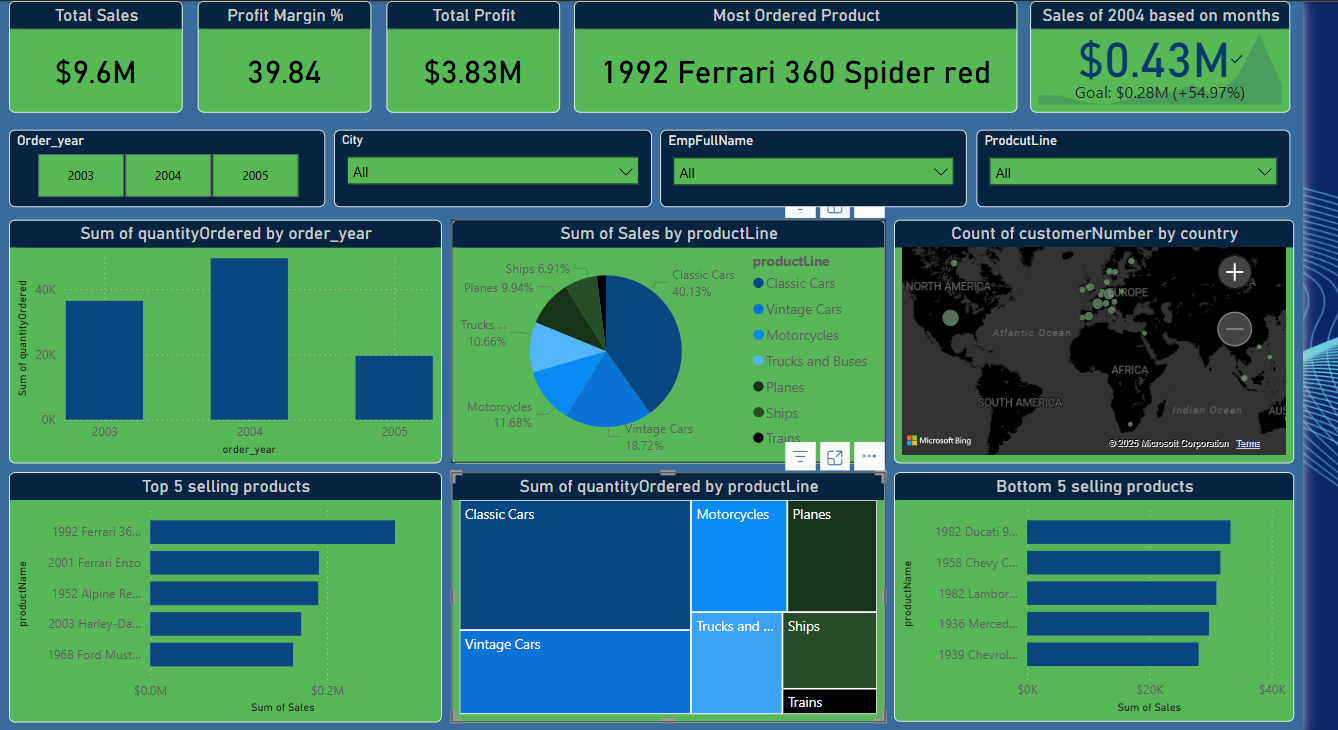

The page's visual inventory and layout, read from the dashboard file:
{"tool":"powerbi","page":{"name":"Page 1","canvas":[1280,720],"ordinal":0},"visuals":[{"type":"card","title":"Total Profit","fields":{"Values":["order details.total_profit"]},"box":[380.4,0,170.6,109.2],"z":0},{"type":"card","title":"Most Ordered Product","fields":{"Values":["order details.Most Bought Product"]},"box":[564.4,0,435.6,109.2],"z":1000},{"type":"pieChart","fields":{"Category":["products.productLine"],"Y":["order details.Sales"]},"box":[444.2,214.7,425.8,239.3],"z":2000},{"type":"slicer","title":"Order_year","fields":{"Values":["orders.order_year"]},"box":[9.8,126.4,310.4,76.1],"z":3000},{"type":"kpi","title":"Sales of 2004 based on months","fields":{"Indicator":["orders.sales_2004"],"Goal":["orders.sales_2003"],"TrendLine":["orders.Month Name"]},"box":[1012.3,0,255.2,109.2],"z":4000},{"type":"map","fields":{"Category":["customers.country"],"Size":["customers.customerNumber"]},"box":[878.5,214.7,392.6,239.3],"z":5000},{"type":"treemap","fields":{"Values":["order details.quantityOrdered"],"Group":["productlines.productLine"]},"box":[444.2,462.6,425.8,245.4],"z":6000},{"type":"clusteredColumnChart","fields":{"Y":["order details.quantityOrdered"],"Category":["orders.order_year"]},"box":[9.8,214.7,424.5,239.3],"z":7000},{"type":"card","title":"Profit Margin %","fields":{"Values":["classic_models_dataset.profit_margin_%"]},"box":[195.1,0,170.6,109.2],"z":8000},{"type":"card","title":"Total Sales","fields":{"Values":["order details.Sales"]},"box":[9.8,0,170.6,109.2],"z":9000},{"type":"slicer","title":"City","fields":{"Values":["customers.city"]},"box":[328.8,126.4,311.7,76.1],"z":10000},{"type":"slicer","title":"EmpFullName","fields":{"Values":["employees.FullName"]},"box":[649.1,126.4,300.6,76.1],"z":11000},{"type":"slicer","title":"ProdcutLine","fields":{"Values":["productlines.productLine"]},"box":[959.5,126.4,308,76.1],"z":12000},{"type":"clusteredBarChart","title":"Bottom 5 selling products","fields":{"Category":["products.productName"],"Y":["order details.Sales"]},"box":[879,463,393,245],"z":13000},{"type":"clusteredBarChart","title":"Top 5 selling products ","fields":{"Category":["products.productName"],"Y":["order details.Sales"]},"box":[9.8,462.6,424.5,245.4],"z":14000}]}

Visuals, with their boxes on the page's 1280x720 design canvas (x1, y1, x2, y2). These are canvas units, not pixel positions in the 1338x730 screenshot, which may show the page scaled, cropped or inside an application window:
"Total Profit" card: rect(380, 0, 551, 109)
"Most Ordered Product" card: rect(564, 0, 1000, 109)
pieChart - products.productLine x order details.Sales: rect(444, 215, 870, 454)
"Order_year" slicer: rect(10, 126, 320, 202)
"Sales of 2004 based on months" kpi: rect(1012, 0, 1268, 109)
map - customers.country x customers.customerNumber: rect(878, 215, 1271, 454)
treemap - order details.quantityOrdered x productlines.productLine: rect(444, 463, 870, 708)
clusteredColumnChart - order details.quantityOrdered x orders.order_year: rect(10, 215, 434, 454)
"Profit Margin %" card: rect(195, 0, 366, 109)
"Total Sales" card: rect(10, 0, 180, 109)
"City" slicer: rect(329, 126, 640, 202)
"EmpFullName" slicer: rect(649, 126, 950, 202)
"ProdcutLine" slicer: rect(960, 126, 1268, 202)
"Bottom 5 selling products" clusteredBarChart: rect(879, 463, 1272, 708)
"Top 5 selling products " clusteredBarChart: rect(10, 463, 434, 708)
